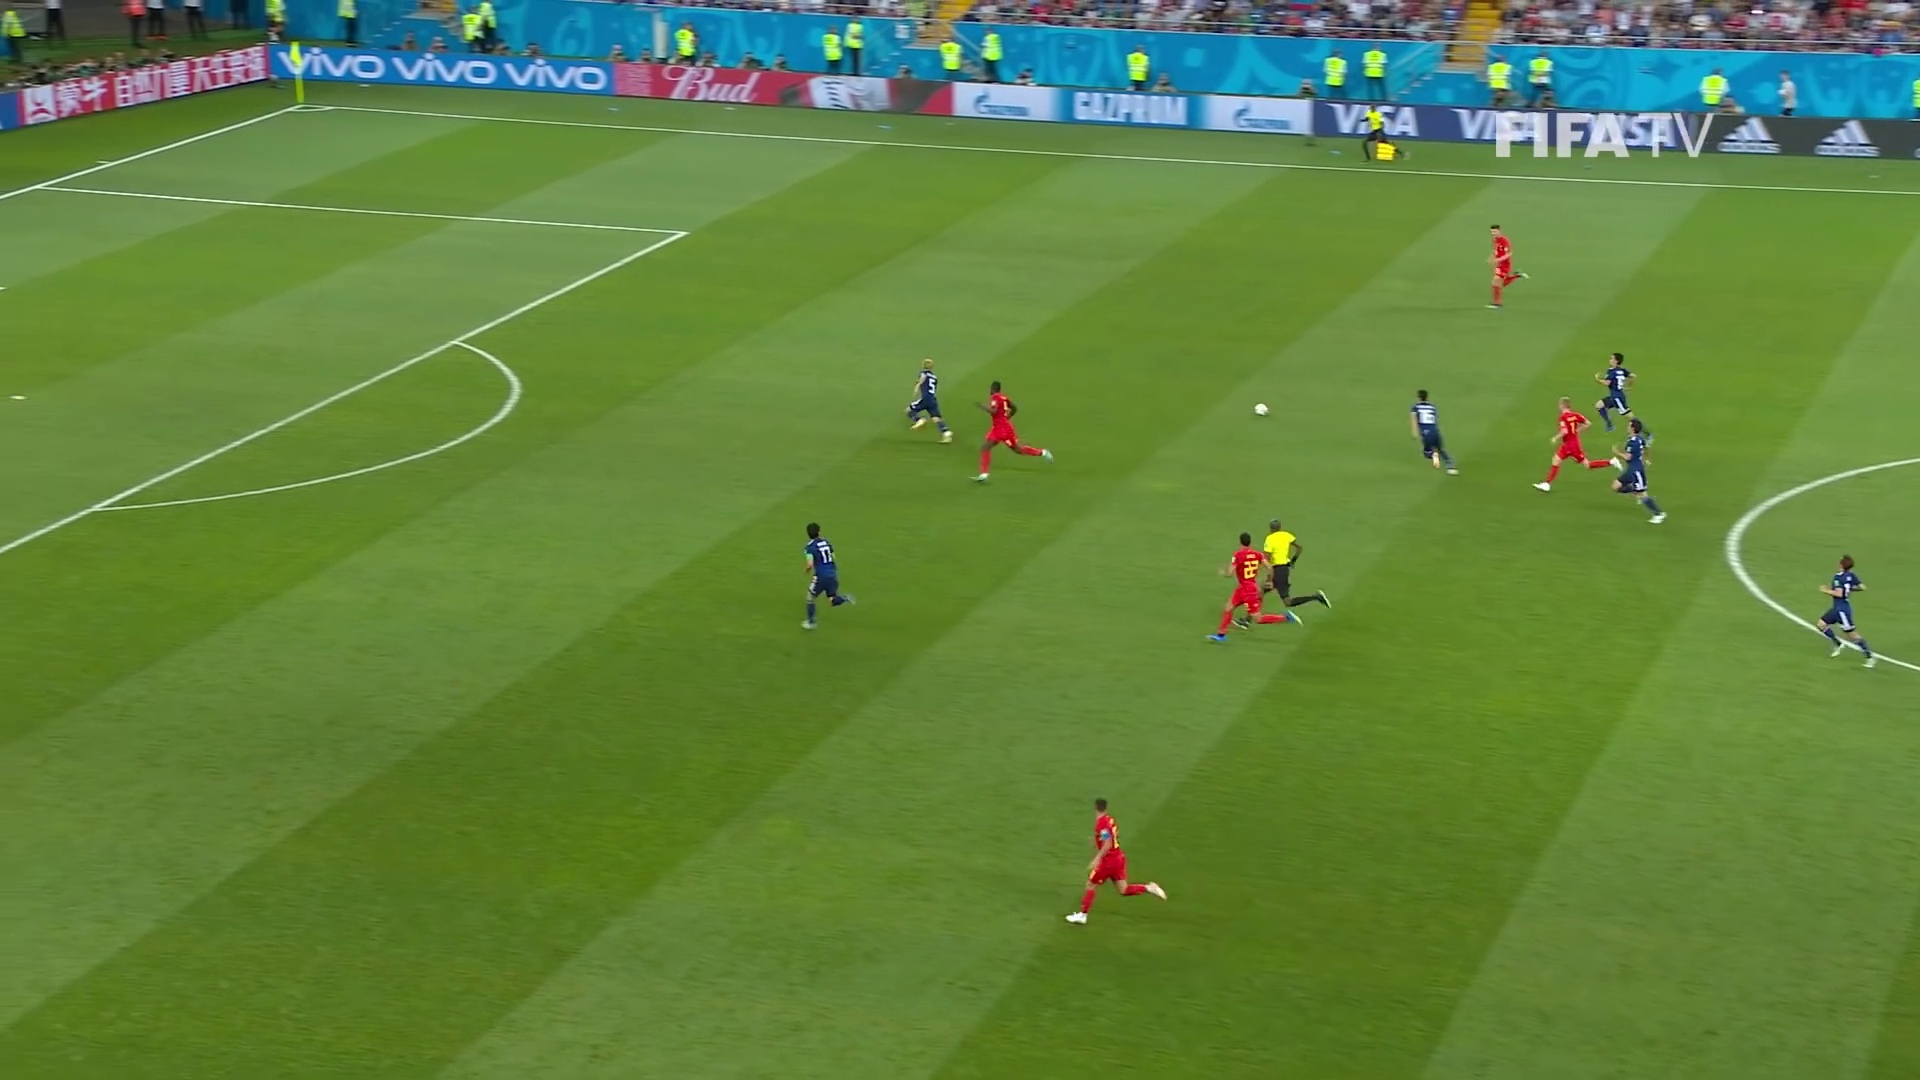ball: (1256, 404, 1267, 415)
person: (1068, 799, 1167, 919), (1211, 533, 1296, 639), (1534, 396, 1621, 488), (973, 379, 1050, 478), (1820, 554, 1877, 665), (1613, 419, 1664, 525), (803, 523, 852, 631), (1595, 352, 1651, 446), (905, 358, 954, 443), (1411, 389, 1455, 474), (1484, 223, 1527, 306)
